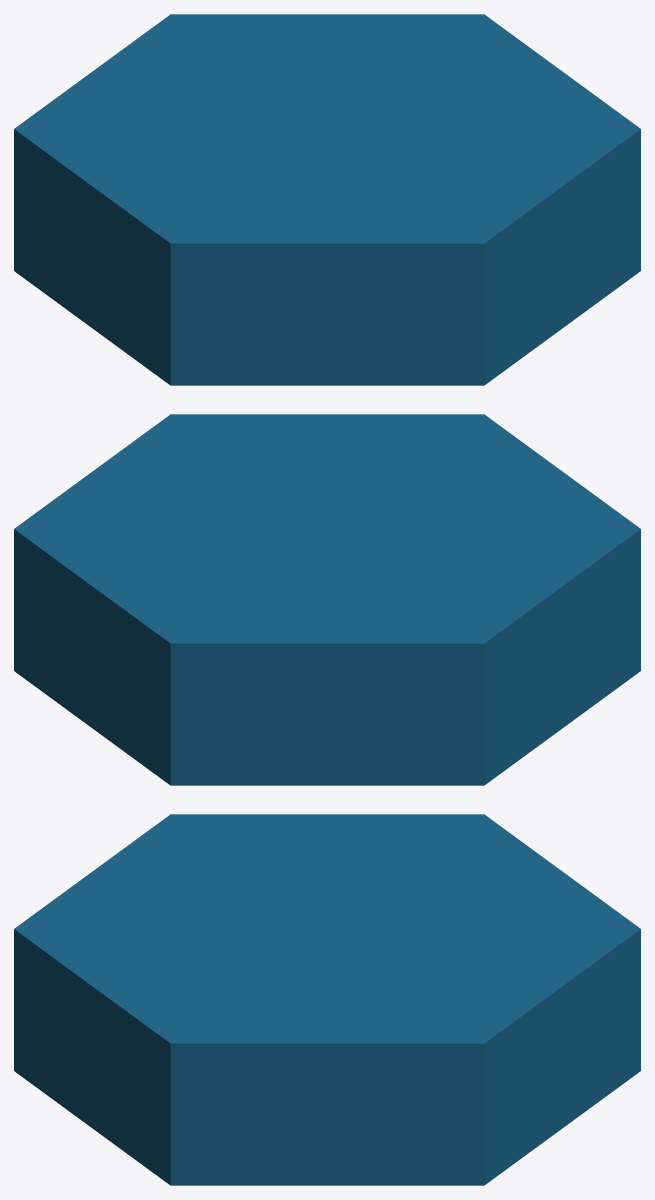
File: deep_water_wall.glb
The picture shows the model from 3 angles, top to bottom: view 1: azimuth 30°, elevation 25°; view 2: azimuth 150°, elevation 25°; view 3: azimuth 270°, elevation 25°; orthographic projection.
Visible parts, largest first — view 1: DeepWaterWallShort; view 2: DeepWaterWallShort; view 3: DeepWaterWallShort.
Part boxes in pixels (x1,y1,x2,y2): DeepWaterWallShort: [14, 14, 640, 385]; DeepWaterWallShort: [14, 414, 640, 785]; DeepWaterWallShort: [14, 814, 640, 1185].
Bounding box in the file's own units: 1.73 × 0.5 × 2.
1 material, 1 textured.
